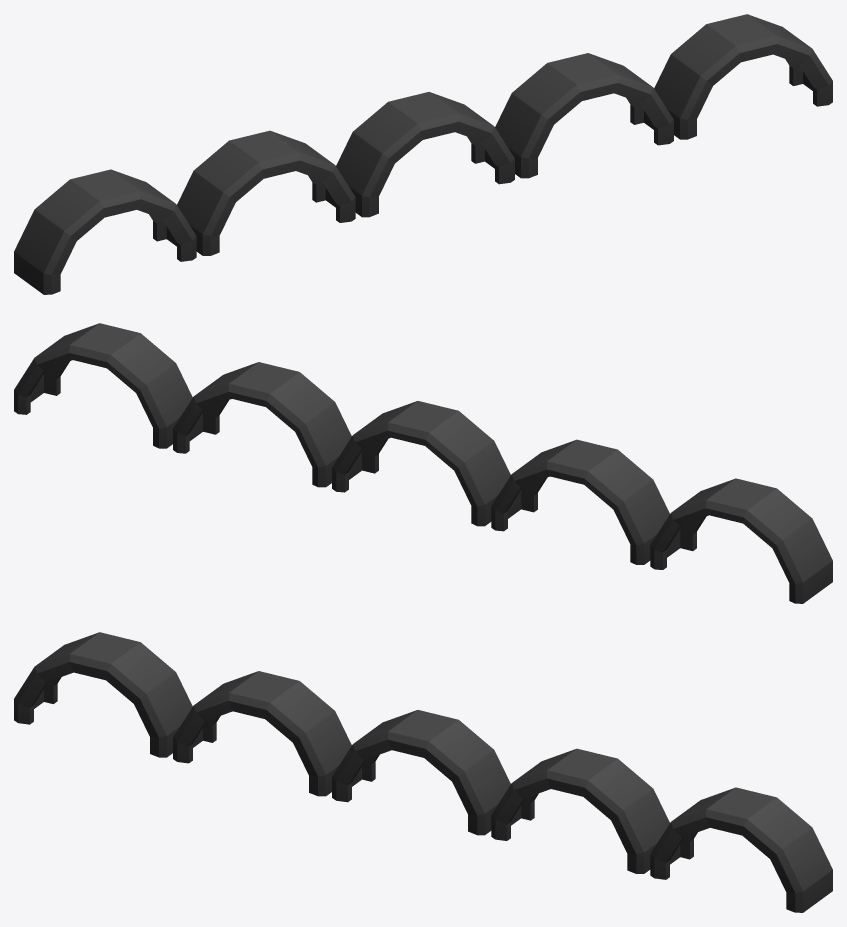
Rendered from Prop_Tire_Wall_01.obj.
3 renders of one model, top to bottom at view 1: azimuth 30°, elevation 25°; view 2: azimuth 150°, elevation 25°; view 3: azimuth 330°, elevation 25°, orthographic.
Visible parts, largest first — view 1: Prop_Tire_Wall_01; view 2: Prop_Tire_Wall_01; view 3: Prop_Tire_Wall_01.
Boxes of the visible parts, x1,y1,x2,y2 form: Prop_Tire_Wall_01: [14, 14, 832, 294]; Prop_Tire_Wall_01: [14, 323, 832, 603]; Prop_Tire_Wall_01: [14, 632, 832, 912].
Bounding box in the file's own units: 4.14 × 0.4009 × 0.3049.
1 material, 1 textured.
